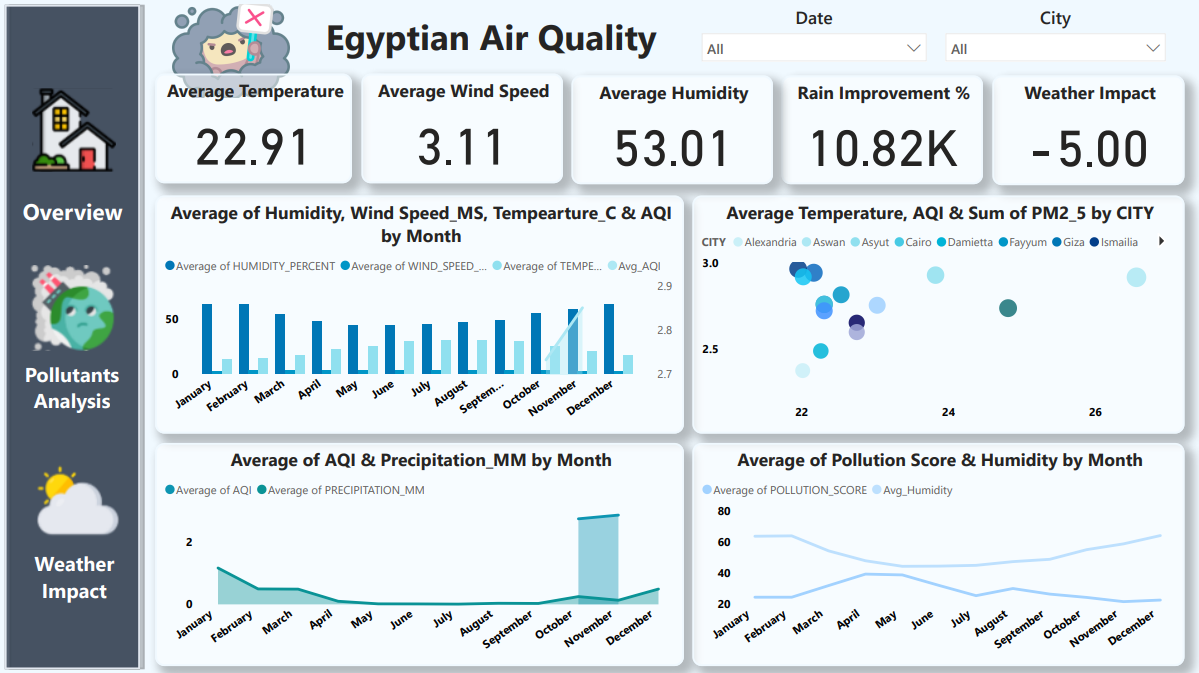

This screenshot's page, from the dashboard's own definition file:
{"tool":"powerbi","page":{"name":"Weather Impact","canvas":[1280,720],"ordinal":3},"visuals":[{"type":"image","box":[180,0,133.8,110],"z":0},{"type":"shape","box":[0,0,155.4,719.6],"z":1000},{"type":"actionButton","box":[23.2,64.3,108.9,132.1],"z":2000},{"type":"actionButton","box":[26.8,489.3,103.6,92.9],"z":3000},{"type":"textbox","box":[19.6,203.6,117.9,53.6],"z":4000},{"type":"textbox","box":[21.4,582.1,117.9,73.2],"z":5000},{"type":"actionButton","box":[21.4,283.9,114.3,96.4],"z":6000},{"type":"card","title":"Average Temperature","fields":{"Values":["Measures .Avg_Temperature"]},"box":[166.2,78.8,210,117.5],"z":7000},{"type":"card","title":"Average Wind Speed","fields":{"Values":["Measures .Avg_Wind_Speed"]},"box":[385.8,79,215,116.7],"z":8000},{"type":"card","title":"Rain Improvement %","fields":{"Values":["CountNonNull(FACT_AIR_QUALITY.AQI_CATEGORY)"]},"box":[834.2,80.7,215,116.7],"z":9000},{"type":"card","title":"Weather Impact","fields":{"Values":["Measures .Weather_Impact"]},"box":[1058.8,81.2,205,116.2],"z":10000},{"type":"card","title":"Average Humidity","fields":{"Values":["Measures .Avg_Humidity"]},"box":[610,80.7,215,116.7],"z":11000},{"type":"textbox","box":[18.8,380,117.5,72.5],"z":12000},{"type":"lineClusteredColumnComboChart","title":"Average of Humidity, Wind Speed_MS, Tempearture_C & AQI by Month","fields":{"Category":["DIM_DATE.DATE_UTC.Variation.Date Hierarchy.Month"],"Y":["Avg(FACT_WEATHER.HUMIDITY_PERCENT)","Avg(FACT_WEATHER.WIND_SPEED_MS)","Avg(FACT_WEATHER.TEMPERATURE_C)"],"Y2":["Measures .Avg_AQI"]},"box":[166.2,208.8,563.8,253.8],"z":13000},{"type":"scatterChart","title":"Average Temperature, AQI & Sum of PM2_5 by CITY","fields":{"Y":["Measures .Avg_AQI"],"X":["Measures .Avg_Temperature"],"Series":["DIM_LOCATION.CITY"],"Size":["Sum(FACT_AIR_QUALITY.PM2_5)"]},"box":[738.8,208.8,525,253.8],"z":14000},{"type":"areaChart","title":"Average of AQI & Precipitation_MM by Month","fields":{"Y":["Avg(FACT_AIR_QUALITY.AQI)","Avg(FACT_WEATHER.PRECIPITATION_MM)"],"Category":["DIM_DATE.DATE_UTC.Variation.Date Hierarchy.Month"]},"box":[166.2,472.5,563.8,238.8],"z":15000},{"type":"lineChart","title":"Average of Pollution Score & Humidity by Month","fields":{"Y":["Avg(FACT_WEATHER.POLLUTION_SCORE)","Measures .Avg_Humidity"],"Category":["DIM_DATE.DATE_UTC.Variation.Date Hierarchy.Month"]},"box":[738.8,472.5,525,238.8],"z":16000},{"type":"textbox","box":[342.5,8.8,407.5,63.8],"z":17000},{"type":"slicer","title":"City","fields":{"Values":["DIM_LOCATION.CITY"]},"box":[998.8,6.2,255,70],"z":18000},{"type":"slicer","title":"Date","fields":{"Values":["DIM_DATE.DATE_UTC.Variation.Date Hierarchy.Year","DIM_DATE.DATE_UTC.Variation.Date Hierarchy.Quarter","DIM_DATE.DATE_UTC.Variation.Date Hierarchy.Month","DIM_DATE.DATE_UTC.Variation.Date Hierarchy.Day"]},"box":[738.8,6.2,260,70],"z":19000}]}

Visuals, with their boxes in screenshot pixels (x1, y1, x2, y2), scaled from the page's 1280x720 canvas onto the 1199x673 screenshot:
image: box=[169, 0, 294, 103]
shape: box=[0, 0, 146, 672]
actionButton: box=[22, 60, 124, 184]
actionButton: box=[25, 457, 122, 544]
textbox: box=[18, 190, 129, 240]
textbox: box=[20, 544, 130, 613]
actionButton: box=[20, 265, 127, 355]
"Average Temperature" card: box=[156, 74, 352, 183]
"Average Wind Speed" card: box=[361, 74, 563, 183]
"Rain Improvement %" card: box=[781, 75, 983, 185]
"Weather Impact" card: box=[992, 76, 1184, 185]
"Average Humidity" card: box=[571, 75, 773, 185]
textbox: box=[18, 355, 128, 423]
"Average of Humidity, Wind Speed_MS, Tempearture_C & AQI by Month" lineClusteredColumnComboChart: box=[156, 195, 684, 432]
"Average Temperature, AQI & Sum of PM2_5 by CITY" scatterChart: box=[692, 195, 1184, 432]
"Average of AQI & Precipitation_MM by Month" areaChart: box=[156, 442, 684, 665]
"Average of Pollution Score & Humidity by Month" lineChart: box=[692, 442, 1184, 665]
textbox: box=[321, 8, 703, 68]
"City" slicer: box=[936, 6, 1174, 71]
"Date" slicer: box=[692, 6, 936, 71]
